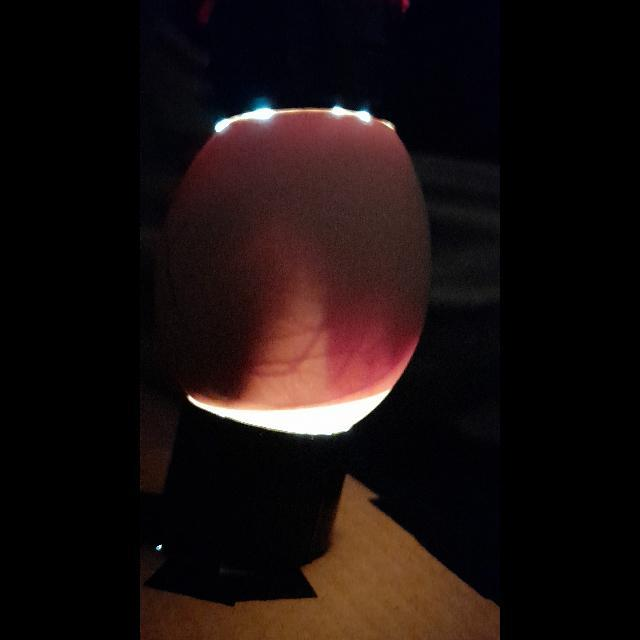Fertile: (162, 105, 436, 439)
